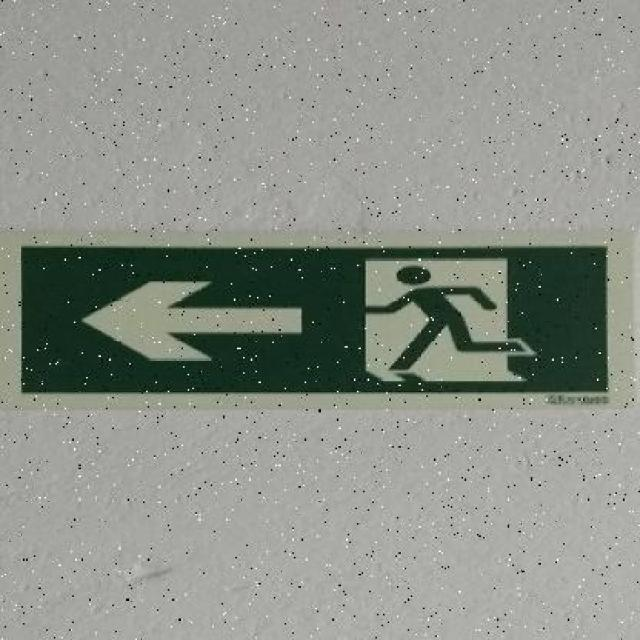emergency_exit: (10, 239, 611, 401)
